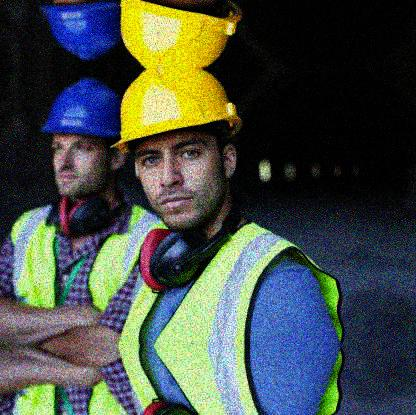helmet: (112, 70, 242, 231), (39, 76, 131, 198)
